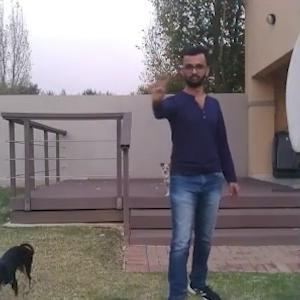takeoff-hand: (134, 55, 174, 104)
